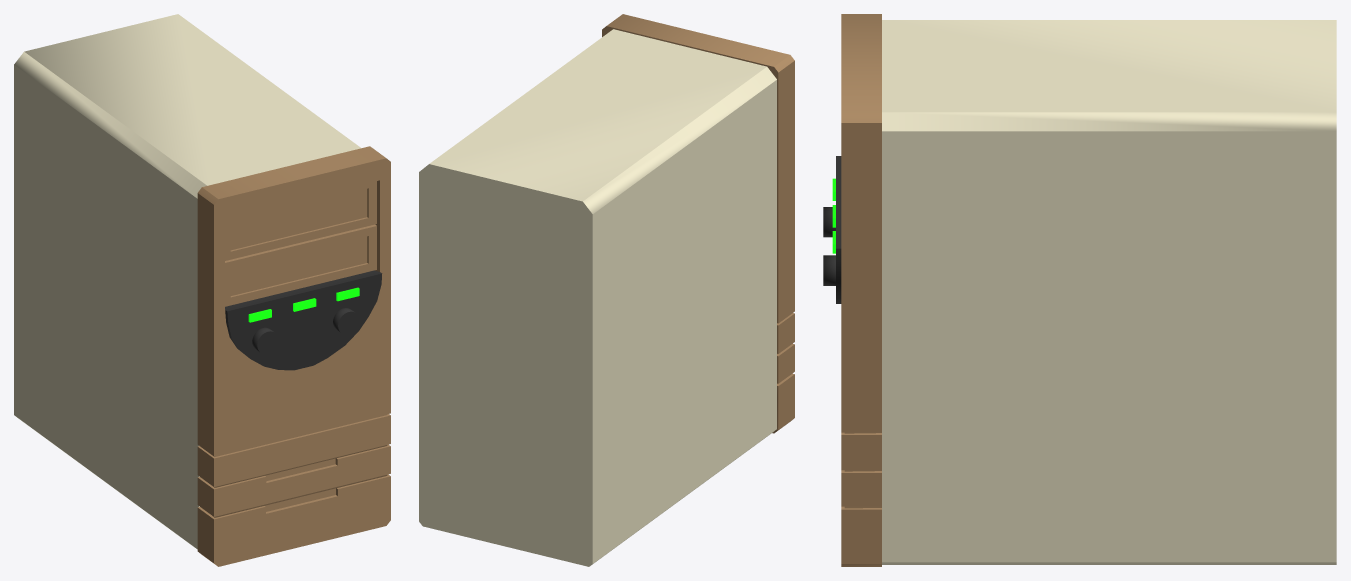
File: workstation_tier5.fbx
The picture shows the model from 3 angles, left to right: view 1: azimuth 30°, elevation 25°; view 2: azimuth 150°, elevation 25°; view 3: azimuth 270°, elevation 25°; orthographic projection. The views are drawn at different scales.
Parts seen in each view (by area): view 1: Cube, Cylinder.001; view 2: Cube; view 3: Cube, Cylinder.001.
Boxes of the visible parts, <box> form: Cube: <box>14,14,390,566</box>; Cylinder.001: <box>252,308,359,354</box>; Cube: <box>419,14,794,566</box>; Cube: <box>836,14,1336,566</box>; Cylinder.001: <box>823,207,835,285</box>.
Bounding box in the file's own units: 0.4328 × 0.8598 × 0.8841.
